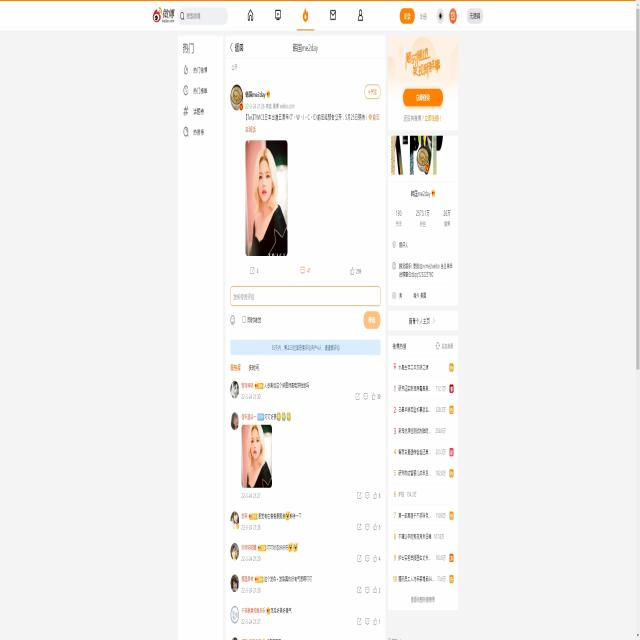menu-bar: (396, 3, 488, 25)
menu-panel: (178, 35, 222, 188)
search: (176, 6, 229, 24)
side-panel: (386, 35, 459, 612)
tab-bar: (242, 4, 366, 33)
